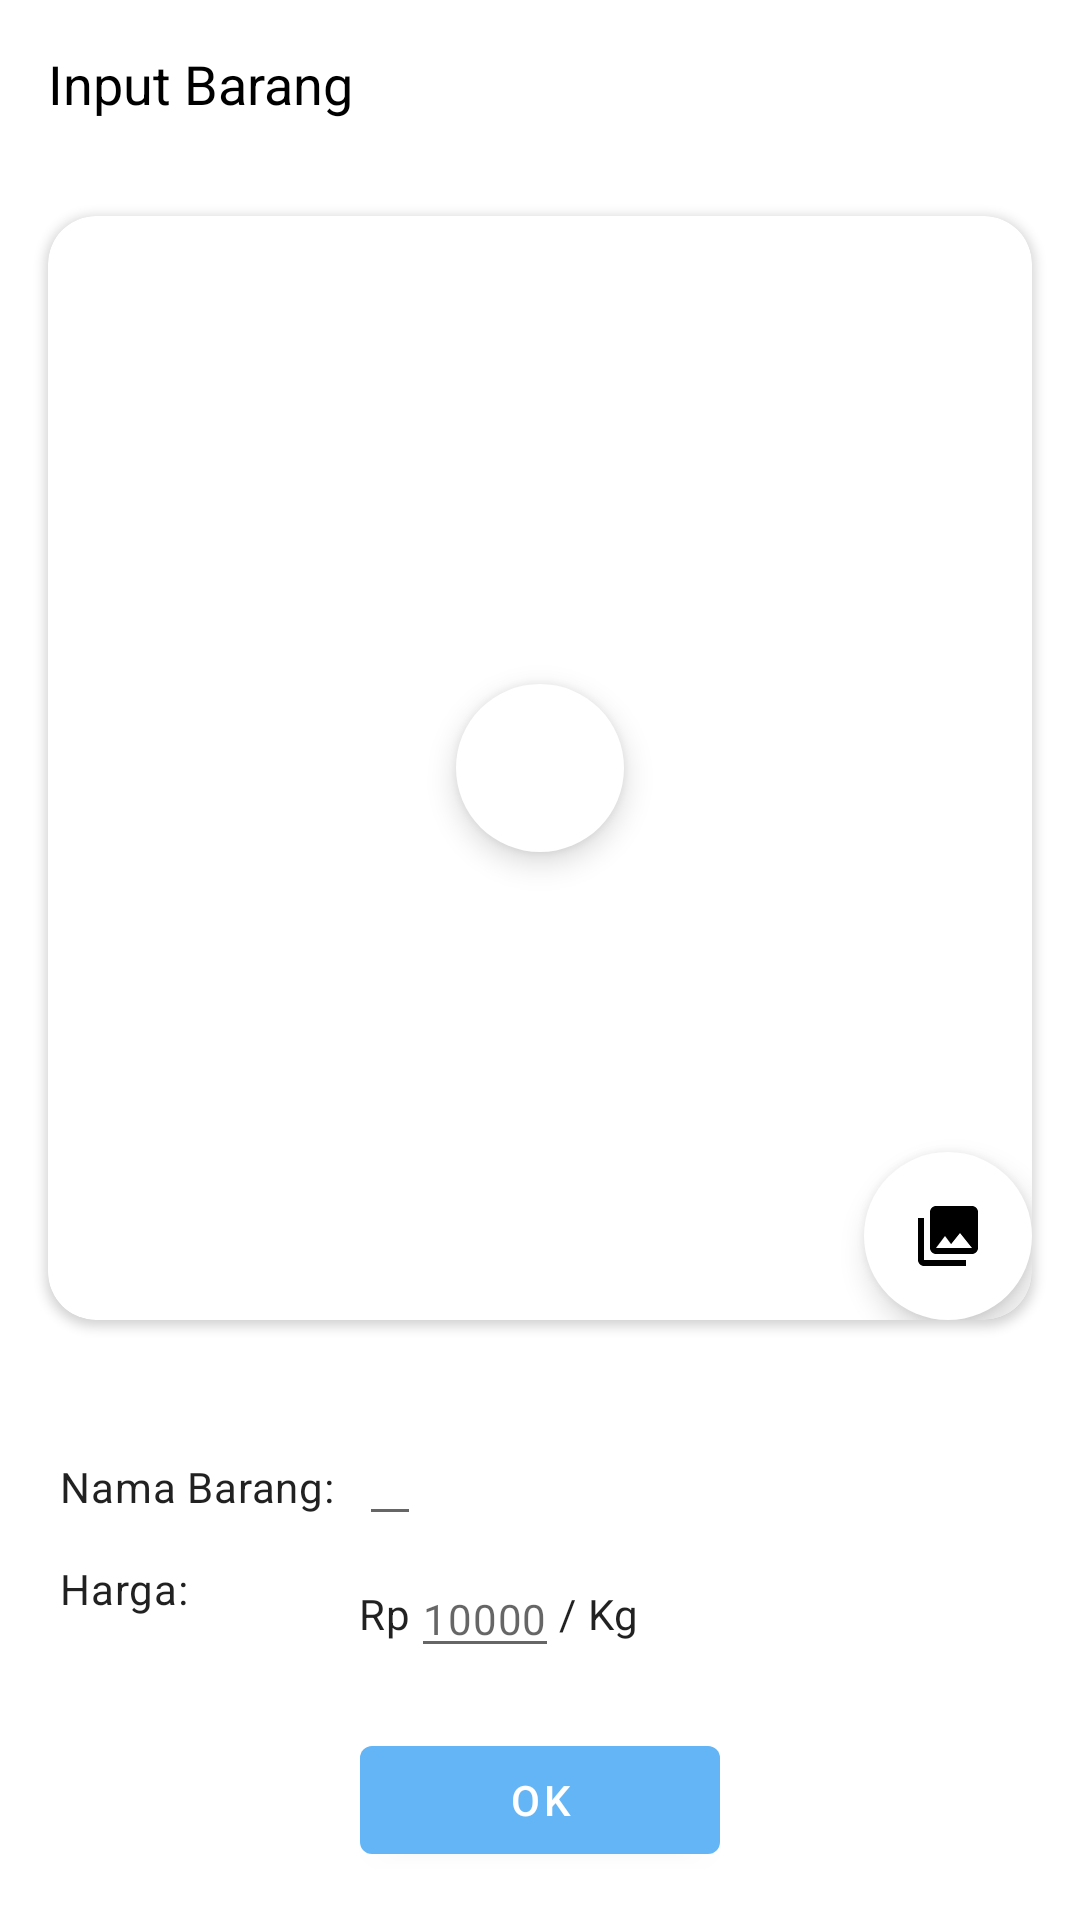

Named icons in this screenshot (1080*1920) and their centers, (x,y):
photo library: (925,1241)
